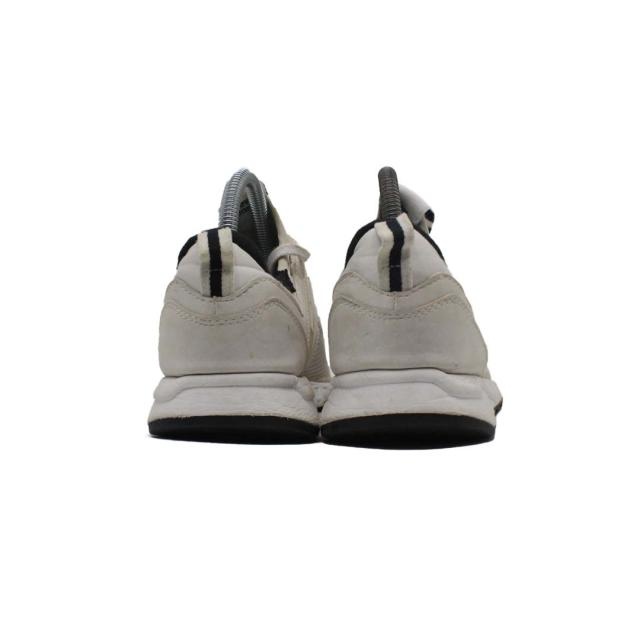heel: (160, 236, 301, 372), (329, 234, 465, 370)
midsole: (319, 372, 500, 440), (142, 374, 321, 439)
